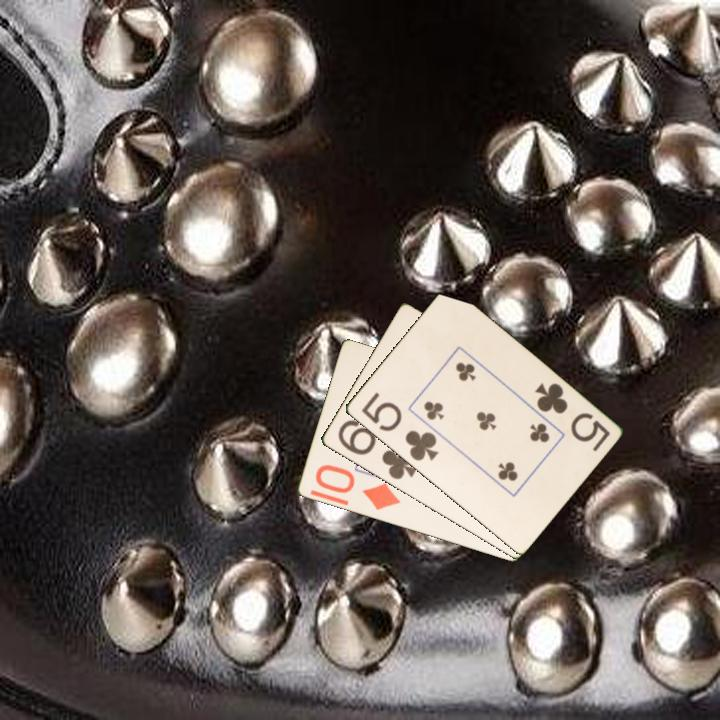10d: (311, 461, 403, 514)
5c: (357, 389, 442, 464), (531, 379, 613, 454)
6c: (334, 416, 420, 483)
